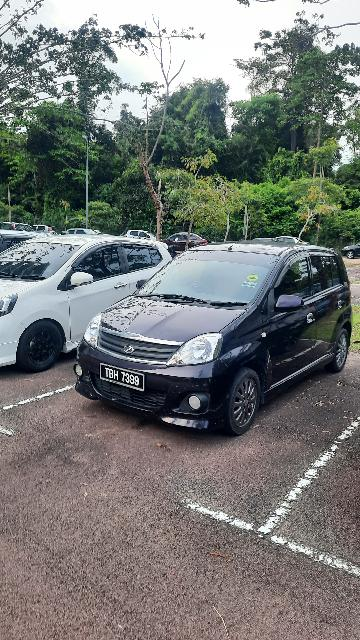License_Plate: (96, 361, 154, 400)
car: (78, 237, 360, 435), (1, 229, 179, 375)
